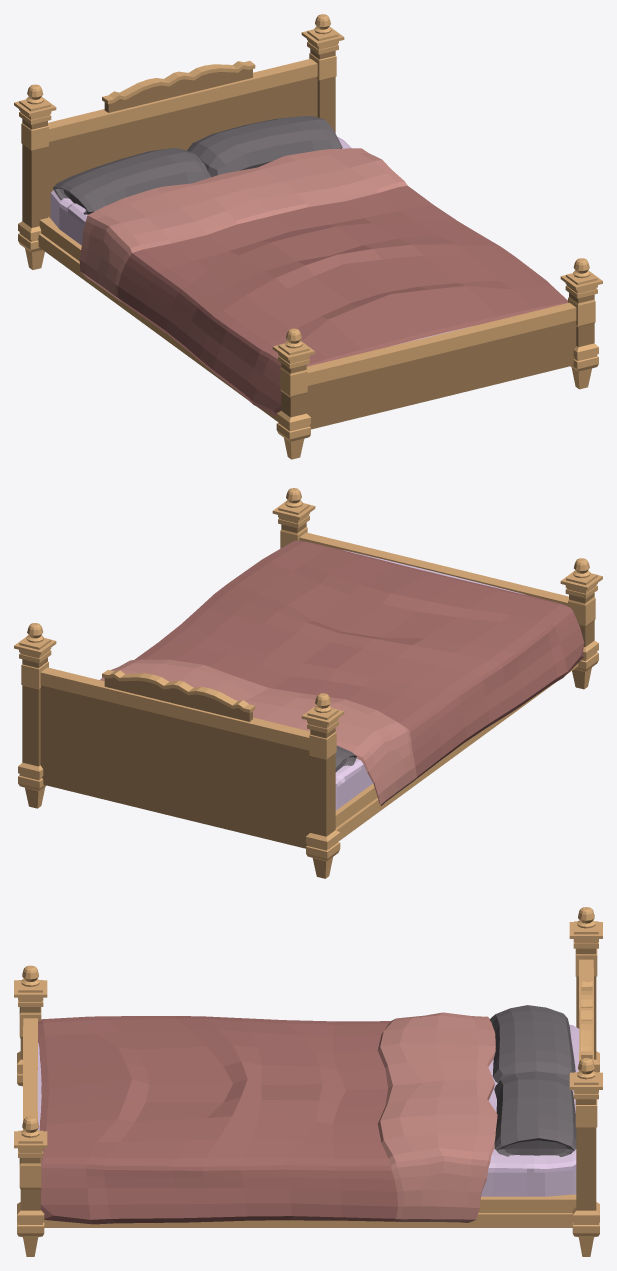
File: Bed.fbx
The picture shows the model from 3 angles, top to bottom: view 1: azimuth 30°, elevation 25°; view 2: azimuth 150°, elevation 25°; view 3: azimuth 270°, elevation 25°; orthographic projection. The views are drawn at different scales.
Parts seen in each view (by area): view 1: BedFrame; view 2: BedFrame; view 3: BedFrame.
Boxes of the visible parts, box(x1,y1,x2,y2) form: BedFrame: box(14, 14, 602, 459); BedFrame: box(14, 488, 602, 878); BedFrame: box(14, 907, 602, 1256).
Bounding box in the file's own units: 2.83 × 1.56 × 4.26.
